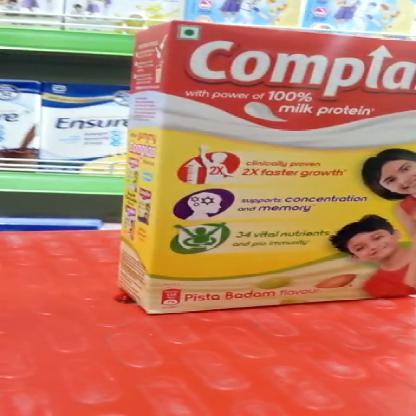Complan Pista Badam: (132, 25, 415, 305)
